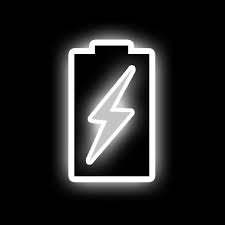charging sign: (54, 29, 165, 194)
